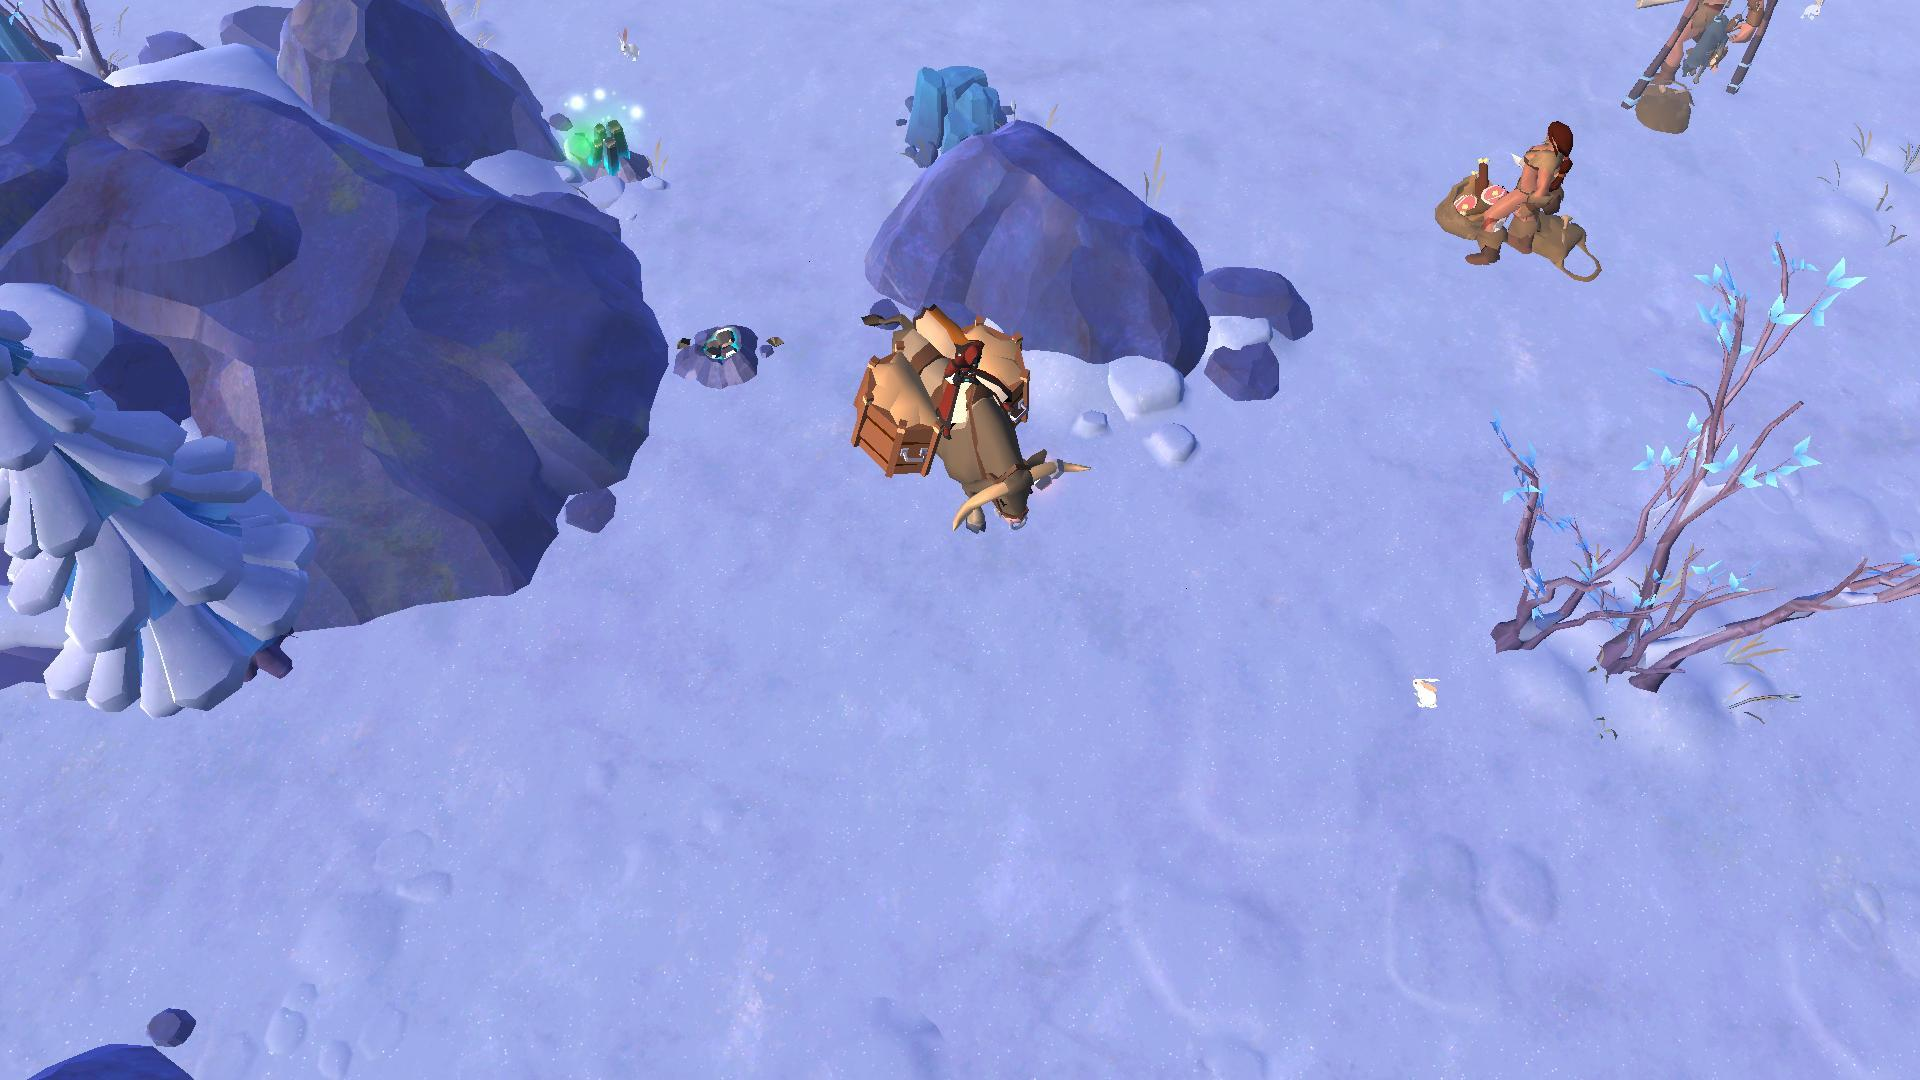enemy_factionKeeper: (1477, 116, 1578, 261)
rock_t4: (886, 57, 1014, 170)
